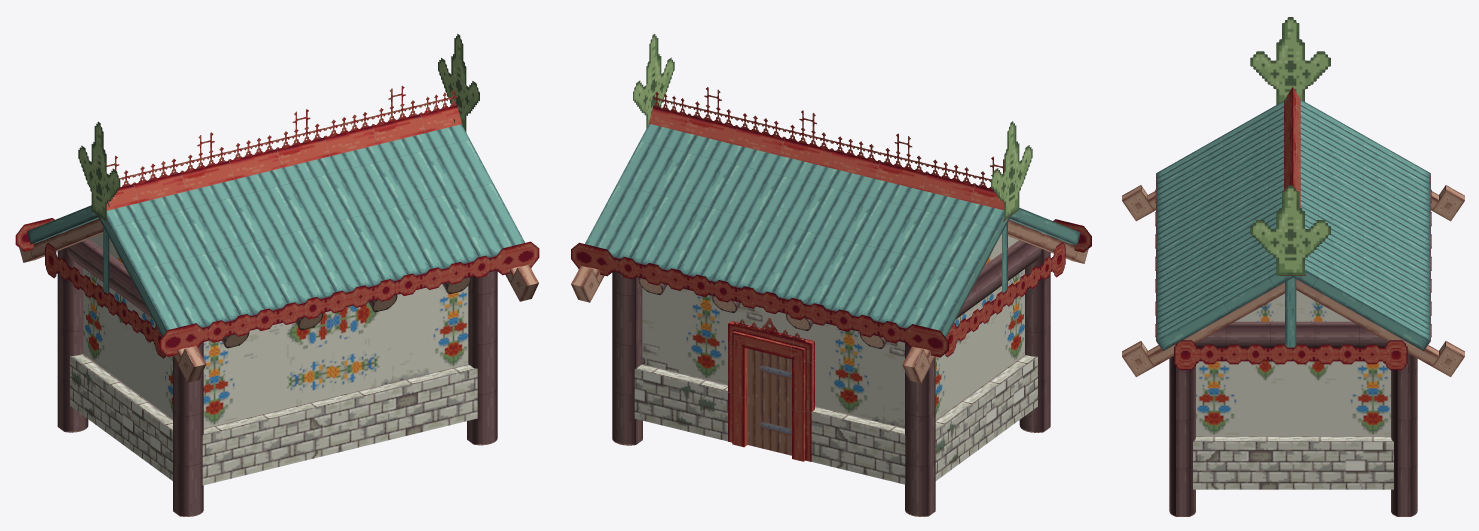
The model's file is stone_house_smaller.fbx.
3 views of the same model, side by side, from view 1: azimuth 30°, elevation 25°; view 2: azimuth 150°, elevation 25°; view 3: azimuth 270°, elevation 25° (orthographic). The views are drawn at different scales.
Visible parts, largest first — view 1: stone_house_smaller; view 2: stone_house_smaller; view 3: stone_house_smaller.
Part boxes in pixels (<box>): stone_house_smaller: <box>15,34,539,516</box>; stone_house_smaller: <box>571,34,1091,516</box>; stone_house_smaller: <box>1122,17,1464,516</box>.
Bounding box in the file's own units: 800 × 717 × 647.
